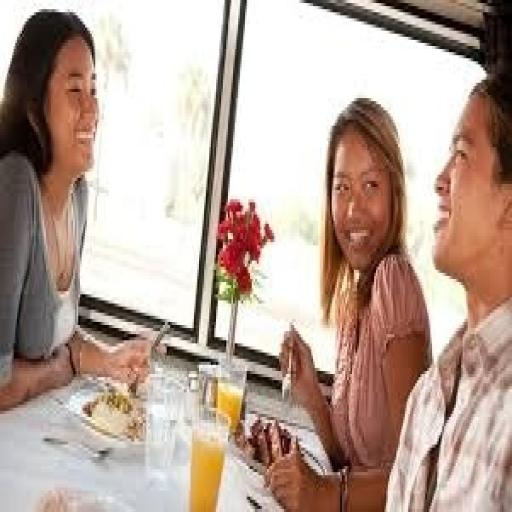eating: (262, 64, 510, 509), (0, 6, 155, 411)
